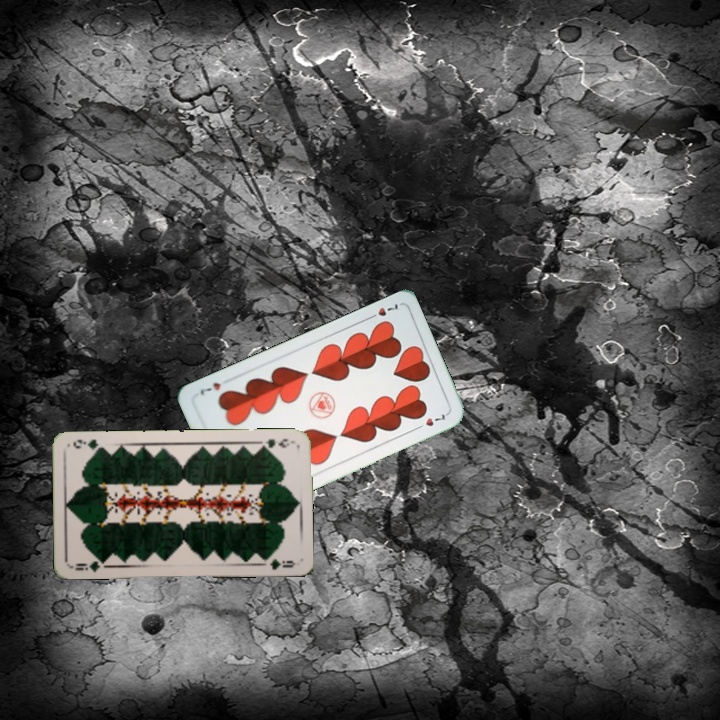G9: (68, 555, 109, 575), (255, 435, 296, 451)
H7: (363, 300, 400, 322)
